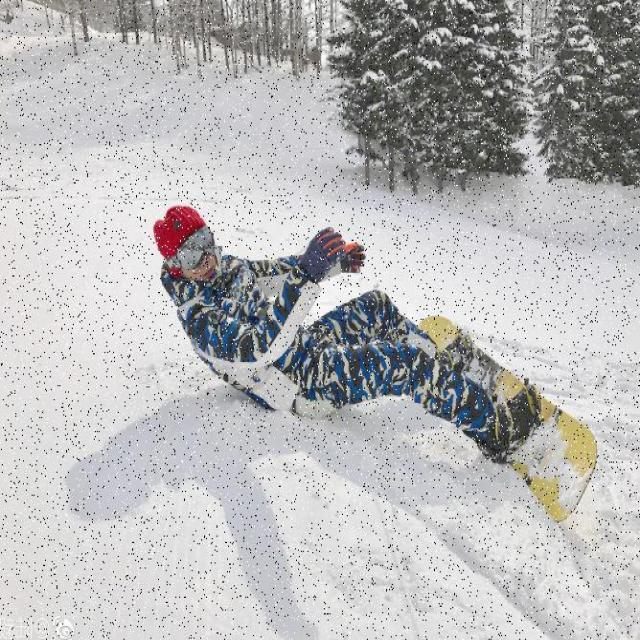fall: (166, 206, 502, 410)
